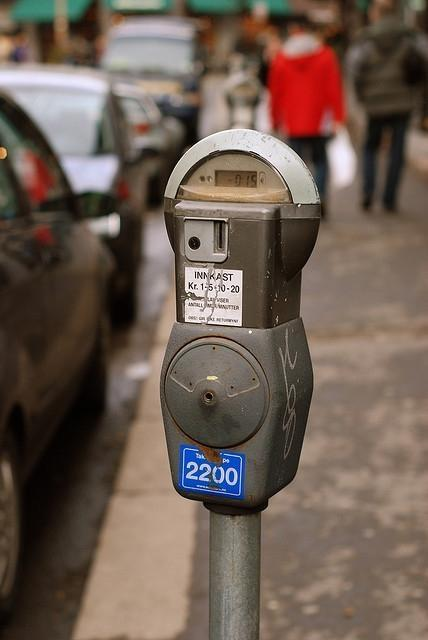car: (0, 90, 150, 594), (0, 66, 147, 208), (97, 22, 208, 141), (111, 80, 187, 210)
